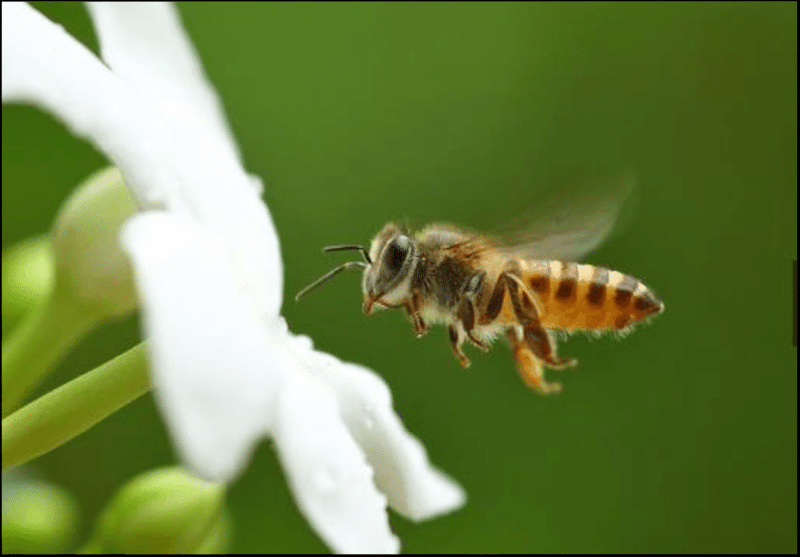abeja: (293, 194, 708, 410)
